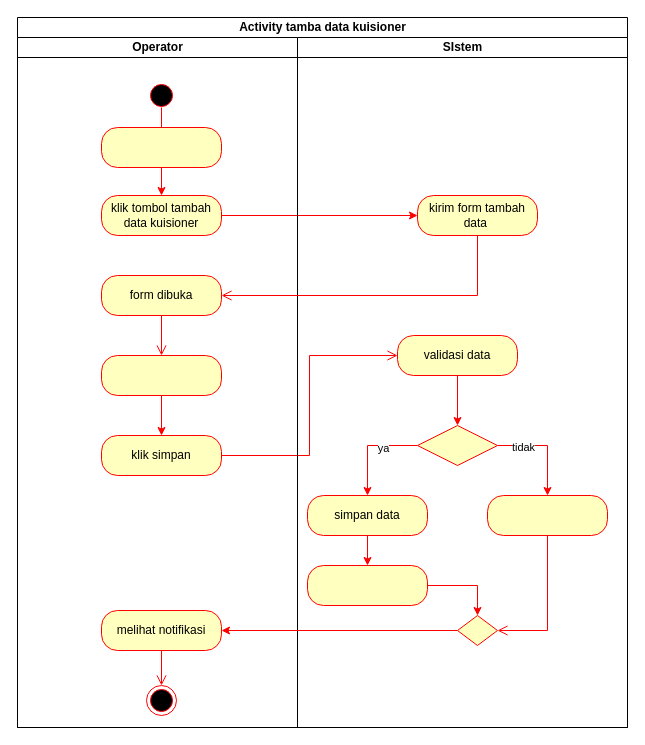
Image size: 645x745. Some labels were removed from this diagram. Each missing label, with the centre of its shape:
"isi form" belongs at [161,375].
"kirim pesan eror ke user" belongs at [547,515].
"kirim pesan sukses ke user" belongs at [367,585].
"masuk halaman kusioner" belongs at [161,147].
"valid" belongs at [457,445].
